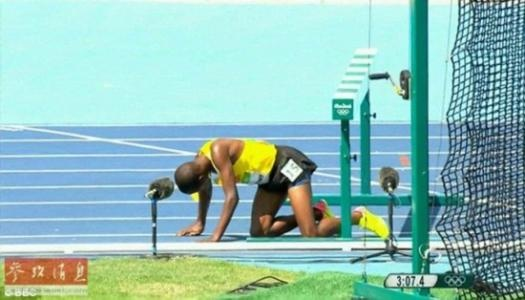falling: (165, 125, 395, 247)
